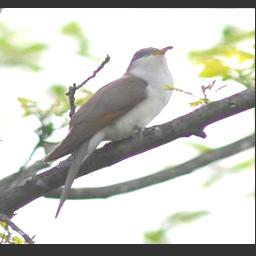Cuckoo: (41, 45, 176, 223)
